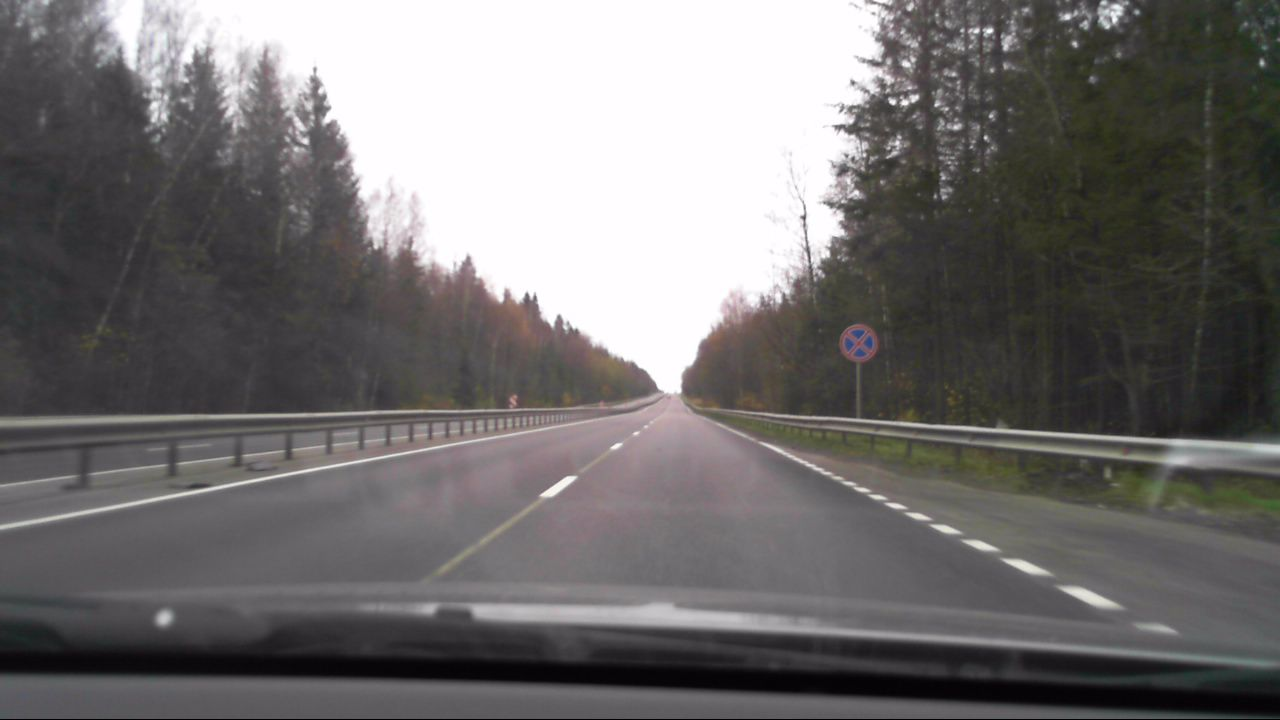No Parking: (838, 323, 880, 367)
